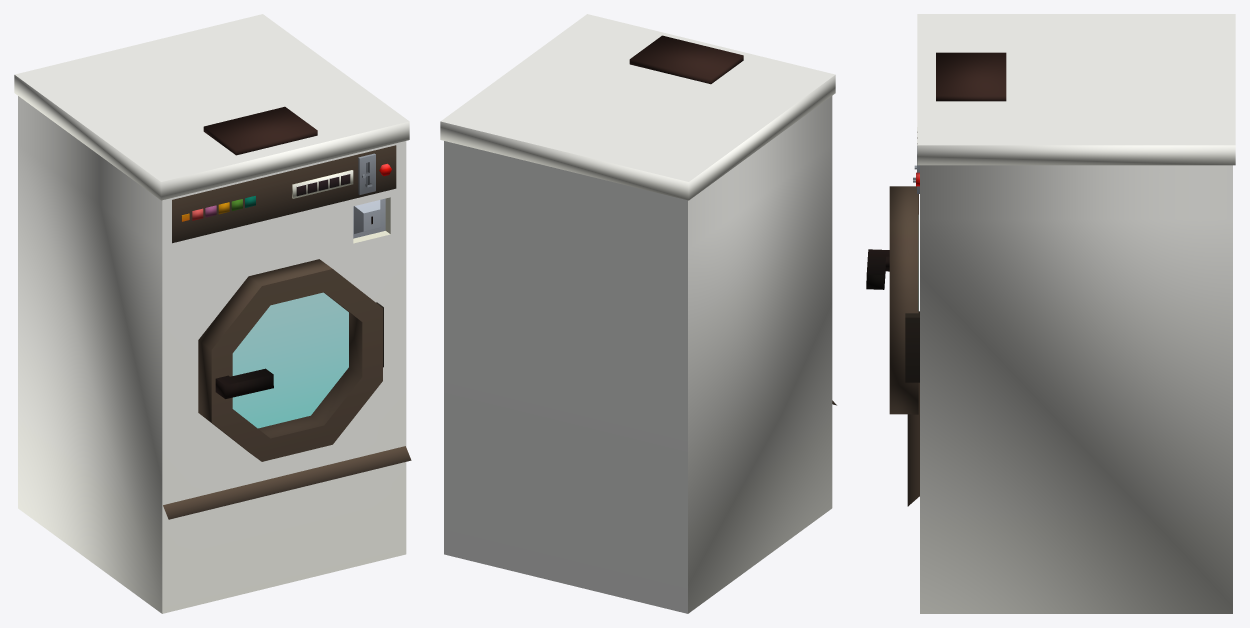
The model's file is Washer_M_Laundromat.fbx.
3 renders of one model, left to right at view 1: azimuth 30°, elevation 25°; view 2: azimuth 150°, elevation 25°; view 3: azimuth 270°, elevation 25°, orthographic. The views are drawn at different scales.
Parts seen in each view (by area): view 1: Washer_M.Laundromat, Washer_M_Door.Laundromat, Washer_M_Lid.Laundromat, Washer_M_DoorHandle.Laundromat, Washer_M_CoinCollector_0.Laundromat; view 2: Washer_M.Laundromat, Washer_M_Lid.Laundromat; view 3: Washer_M.Laundromat, Washer_M_Door.Laundromat, Washer_M_Lid.Laundromat, Washer_M_DoorHandle.Laundromat.
Boxes of the visible parts, x1,y1,x2,y2 form: Washer_M.Laundromat: [14, 14, 411, 613]; Washer_M_Door.Laundromat: [198, 259, 383, 461]; Washer_M_Lid.Laundromat: [203, 106, 317, 155]; Washer_M_DoorHandle.Laundromat: [215, 368, 273, 398]; Washer_M_CoinCollector_0.Laundromat: [353, 198, 385, 238]; Washer_M.Laundromat: [440, 14, 836, 613]; Washer_M_Lid.Laundromat: [629, 35, 743, 84]; Washer_M.Laundromat: [907, 14, 1235, 613]; Washer_M_Door.Laundromat: [889, 186, 919, 414]; Washer_M_Lid.Laundromat: [936, 52, 1006, 101]; Washer_M_DoorHandle.Laundromat: [866, 249, 889, 289].
Bounding box in the file's own units: 90 × 152 × 107.
Materials: 1 (1 with a texture image).
